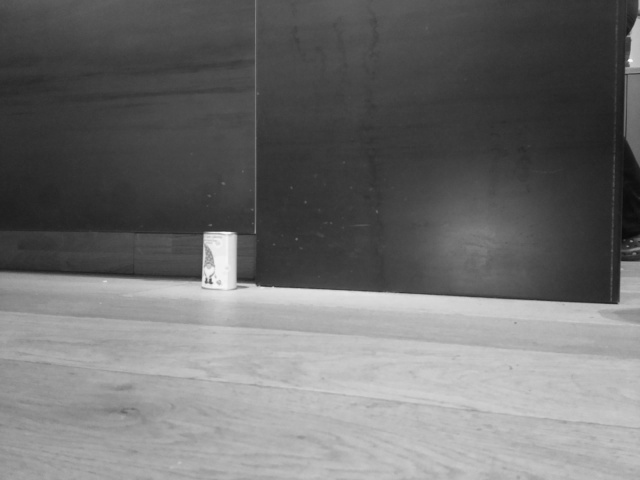gnome: (203, 244, 225, 286)
